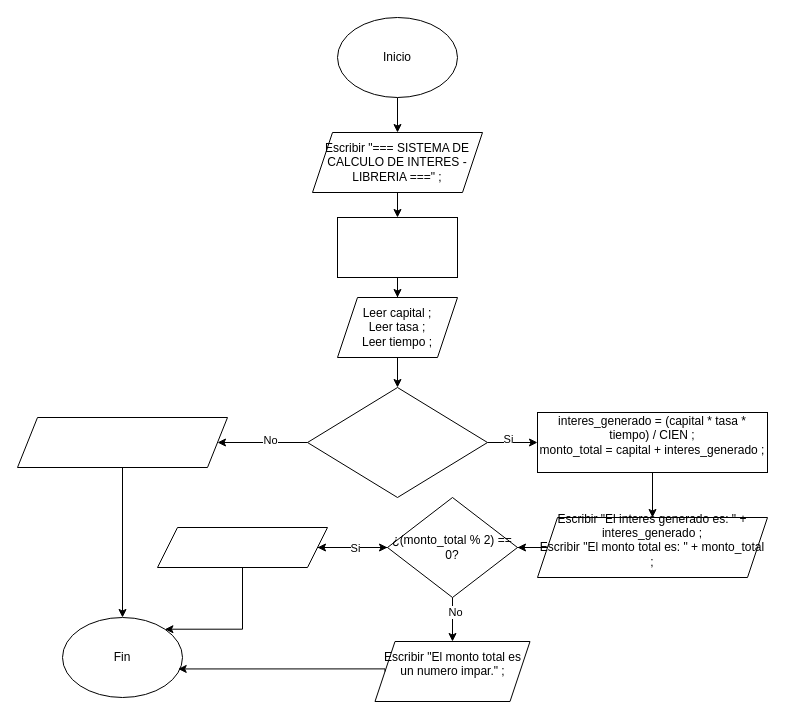
This 785x719 diagram has some shape labels left out. Each missing label, with the centre of its shape:
CIEN = 100 ;: point 397,247
Escribir "El monto total es un numero par." ;: point 242,547
Escribir "Error: Los valores ingresados deben ser mayores a cero." ;: point 122,442
¿capital > 0 Y tasa > 0 Y tiempo > 0?: point 397,442
